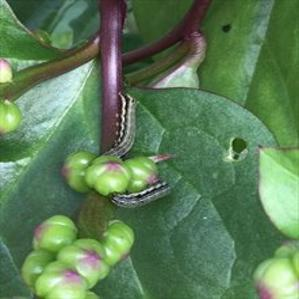Tobacco cutworm: (102, 160, 208, 236), (80, 72, 159, 172)
